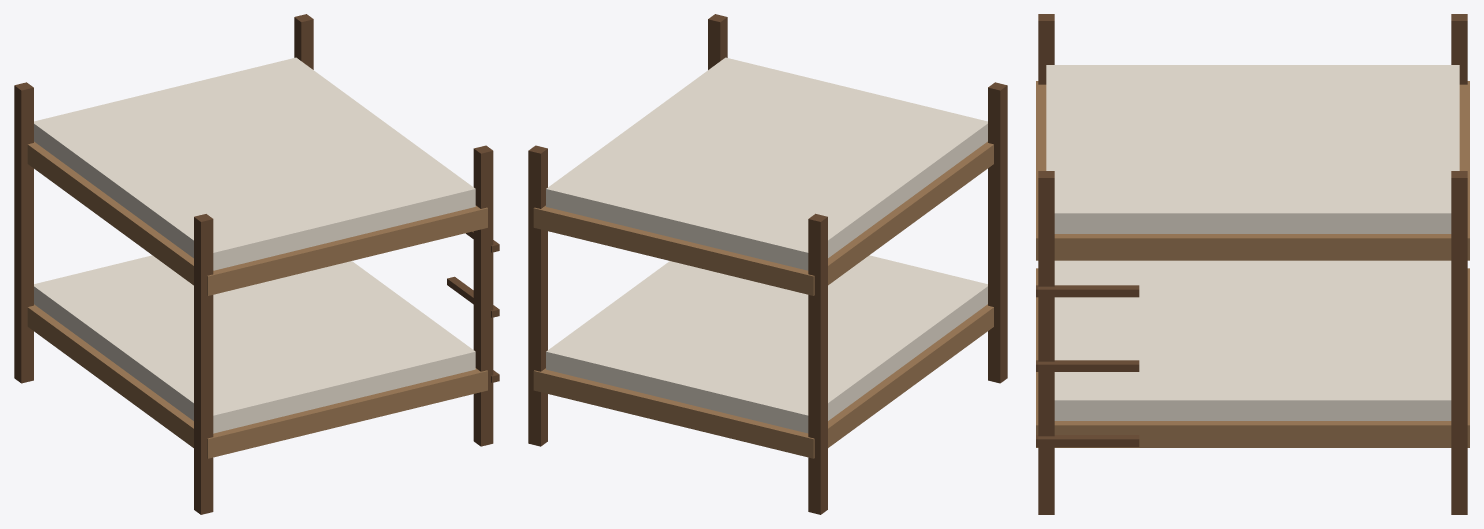
File: bed_bunk.glb
3 views of the same model, side by side, from view 1: azimuth 30°, elevation 25°; view 2: azimuth 150°, elevation 25°; view 3: azimuth 270°, elevation 25° (orthographic). The views are drawn at different scales.
Visible parts, largest first — view 1: bed_bunk; view 2: bed_bunk; view 3: bed_bunk.
Part boxes in pixels (x1=…): bed_bunk: x1=14, y1=14, x2=499, y2=514; bed_bunk: x1=528, y1=14, x2=1007, y2=514; bed_bunk: x1=1036, y1=14, x2=1469, y2=514.
Bounding box in the file's own units: 1.92 × 1.8 × 2.1.
